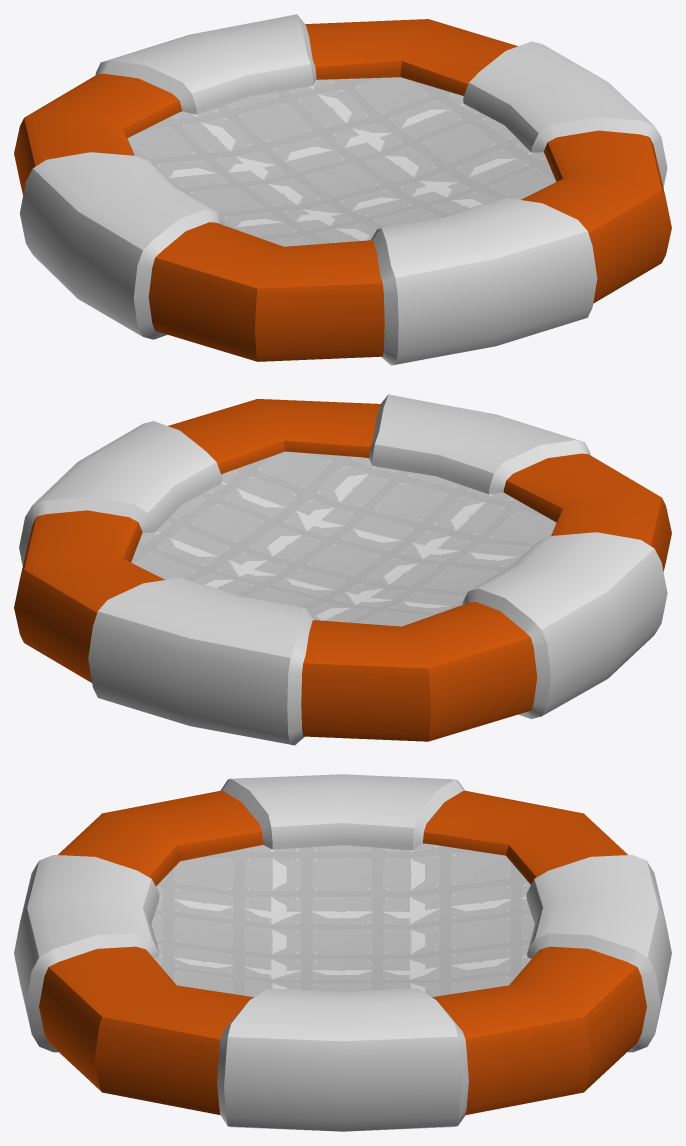
Rendered from life ring.glb.
3 renders of one model, top to bottom at view 1: azimuth 30°, elevation 25°; view 2: azimuth 150°, elevation 25°; view 3: azimuth 270°, elevation 25°, orthographic. The views are drawn at different scales.
Visible parts, largest first — view 1: Quest_Goblin2_LifeRing; view 2: Quest_Goblin2_LifeRing; view 3: Quest_Goblin2_LifeRing.
Part boxes in pixels (x1,y1,x2,y2): Quest_Goblin2_LifeRing: [14, 14, 671, 365]; Quest_Goblin2_LifeRing: [14, 394, 671, 745]; Quest_Goblin2_LifeRing: [14, 774, 671, 1131].
Size of the model in its own units: 1.42 by 0.2755 by 1.42.
Materials: 1 (1 with a texture image).
